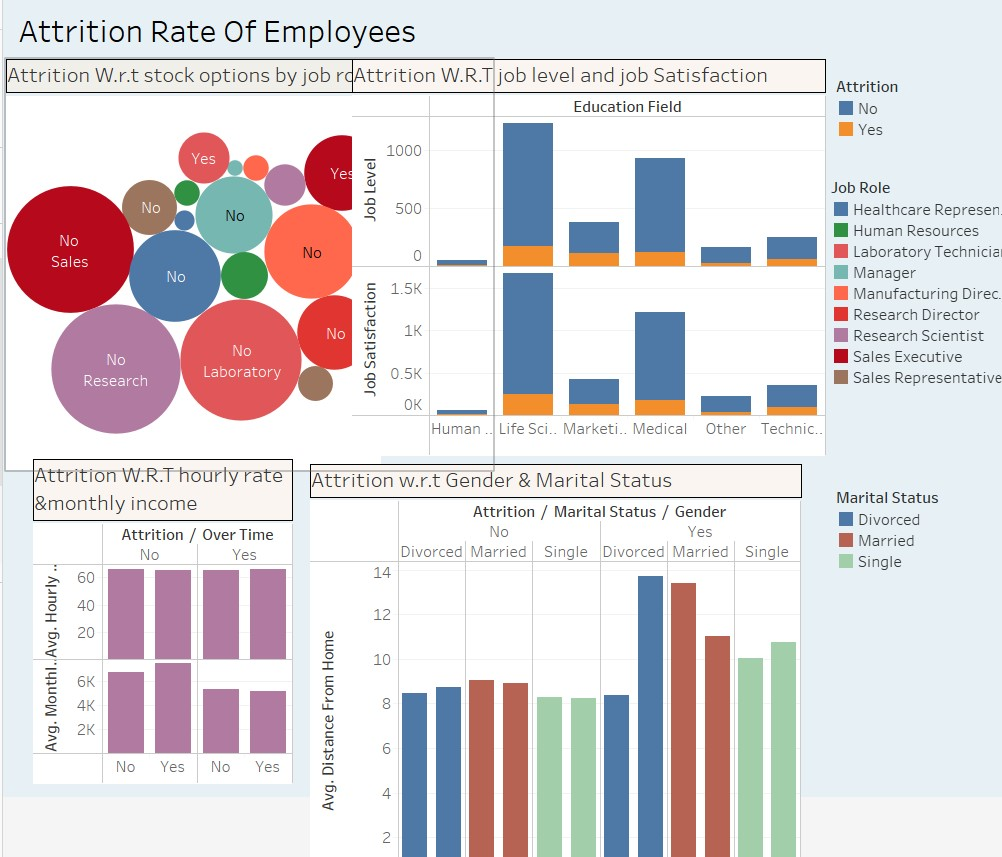

The dashboard page shown, as its layout file describes it:
{"tool":"tableau","page":{"name":"Dashboard 2","canvas":[1000,800],"ordinal":0},"visuals":[{"type":"title","box":[8,8,984,50]},{"type":"worksheet","title":"job role ","mark":"Circle","box":[3,62,487,411]},{"type":"worksheet","title":"job level & satisfaction","mark":"Automatic","rows":["JobSatisfaction","JobLevel"],"cols":["EducationField"],"box":[349,62,474,397]},{"type":"legend","title":"job level & satisfaction","param":"[federated.04b1py01olncvt16mgh8g0yjsxij].[none:Attrition:nk]","box":[833,79,165,76]},{"type":"worksheet","title":"hourly rate & income ","mark":"Automatic","rows":["HourlyPayRate","MonthlyIncome"],"cols":["Attrition","OverTime"],"box":[30,462,260,325]},{"type":"legend","title":"gender & marital status","param":"[federated.04b1py01olncvt16mgh8g0yjsxij].[none:MaritalStatus:nk]","box":[833,490,161,246]}]}

Visuals, with their boxes on the page's 1000x800 design canvas (x1, y1, x2, y2). These are canvas units, not pixel positions in the 1002x857 screenshot, which may show the page scaled, cropped or inside an application window:
title: left=8, top=8, right=992, bottom=58
"job role " worksheet (Circle marks): left=3, top=62, right=490, bottom=473
"job level & satisfaction" worksheet: left=349, top=62, right=823, bottom=459
"job level & satisfaction" legend: left=833, top=79, right=998, bottom=155
"hourly rate & income " worksheet: left=30, top=462, right=290, bottom=787
"gender & marital status" legend: left=833, top=490, right=994, bottom=736
